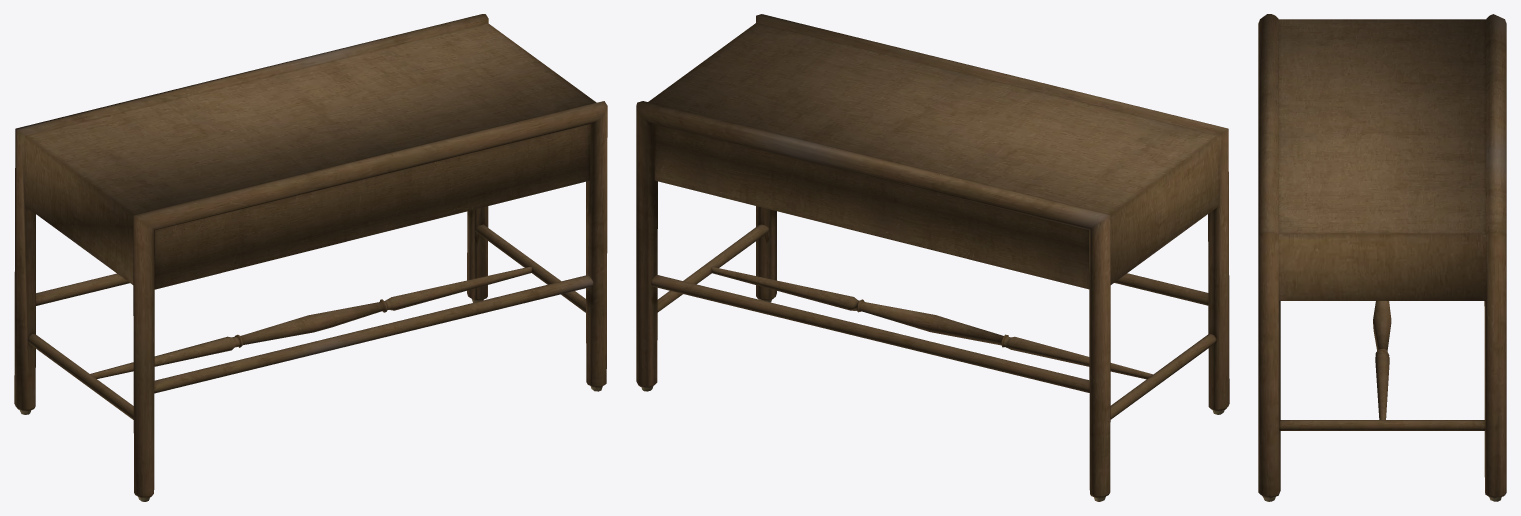
File: small_wooden_table_01.glb
The picture shows the model from 3 angles, left to right: view 1: azimuth 30°, elevation 25°; view 2: azimuth 150°, elevation 25°; view 3: azimuth 270°, elevation 25°; orthographic projection. The views are drawn at different scales.
Visible parts, largest first — view 1: small_wooden_table_01; view 2: small_wooden_table_01; view 3: small_wooden_table_01.
Boxes of the visible parts, left/top/right/bottom form: small_wooden_table_01: left=14, top=14, right=607, bottom=501; small_wooden_table_01: left=636, top=14, right=1229, bottom=501; small_wooden_table_01: left=1258, top=14, right=1506, bottom=501.
Bounding box in the file's own units: 0.9162 × 0.5331 × 0.4399.
1 material, 1 textured.
